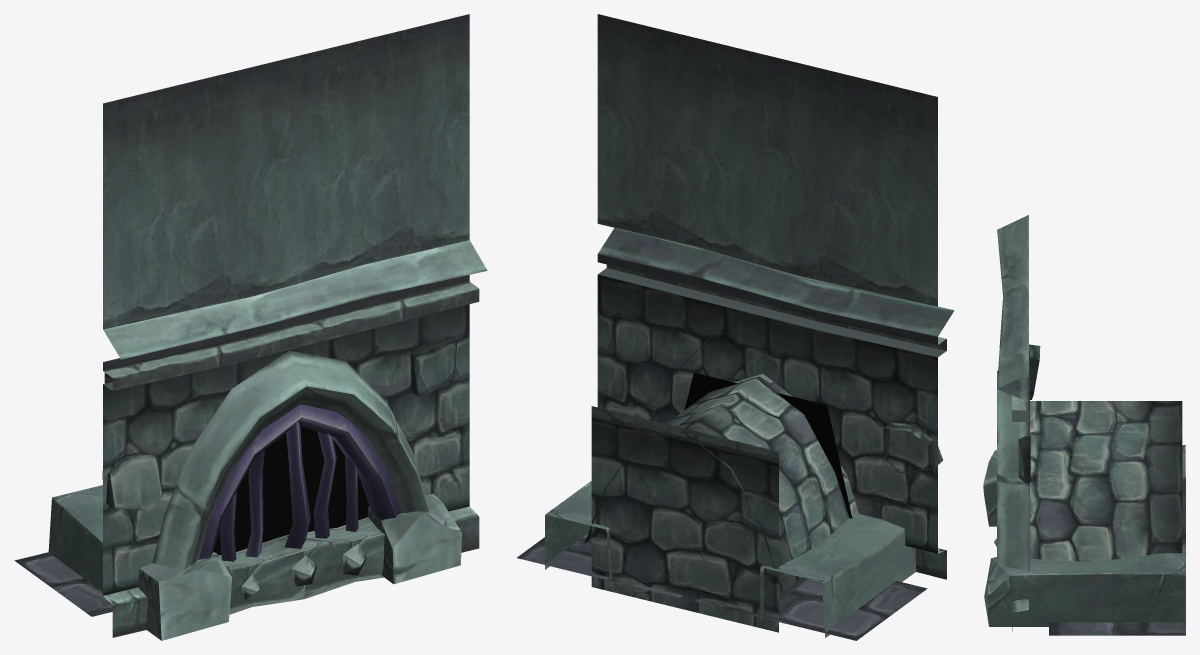
Rendered from crypt_wall_straight_11.fbx.
The picture shows the model from 3 angles, left to right: view 1: azimuth 30°, elevation 25°; view 2: azimuth 150°, elevation 25°; view 3: azimuth 270°, elevation 25°; orthographic projection. The views are drawn at different scales.
Parts seen in each view (by area): view 1: crypt_wall_straight_11-0; view 2: crypt_wall_straight_11-0; view 3: crypt_wall_straight_11-0.
Part boxes in pixels (x1,y1,x2,y2): crypt_wall_straight_11-0: (14, 14, 487, 640); crypt_wall_straight_11-0: (517, 14, 954, 640); crypt_wall_straight_11-0: (983, 215, 1185, 635).
Size of the model in its own units: 4.01 by 5.59 by 2.16.
